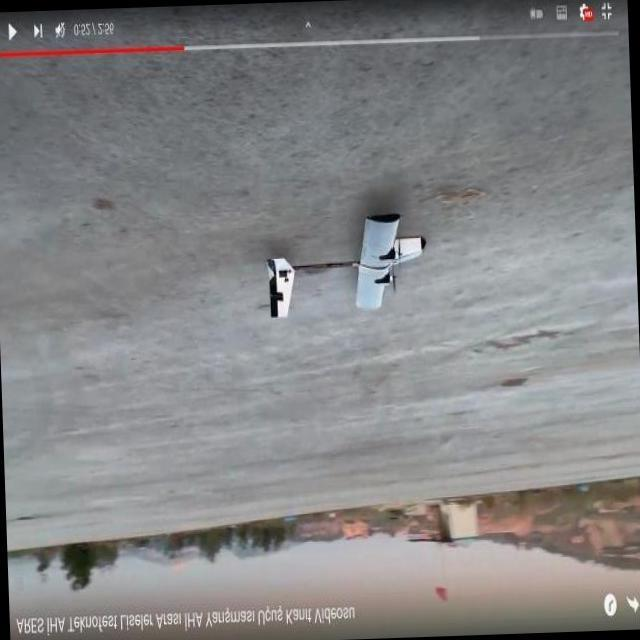iha: (278, 224, 437, 357)
